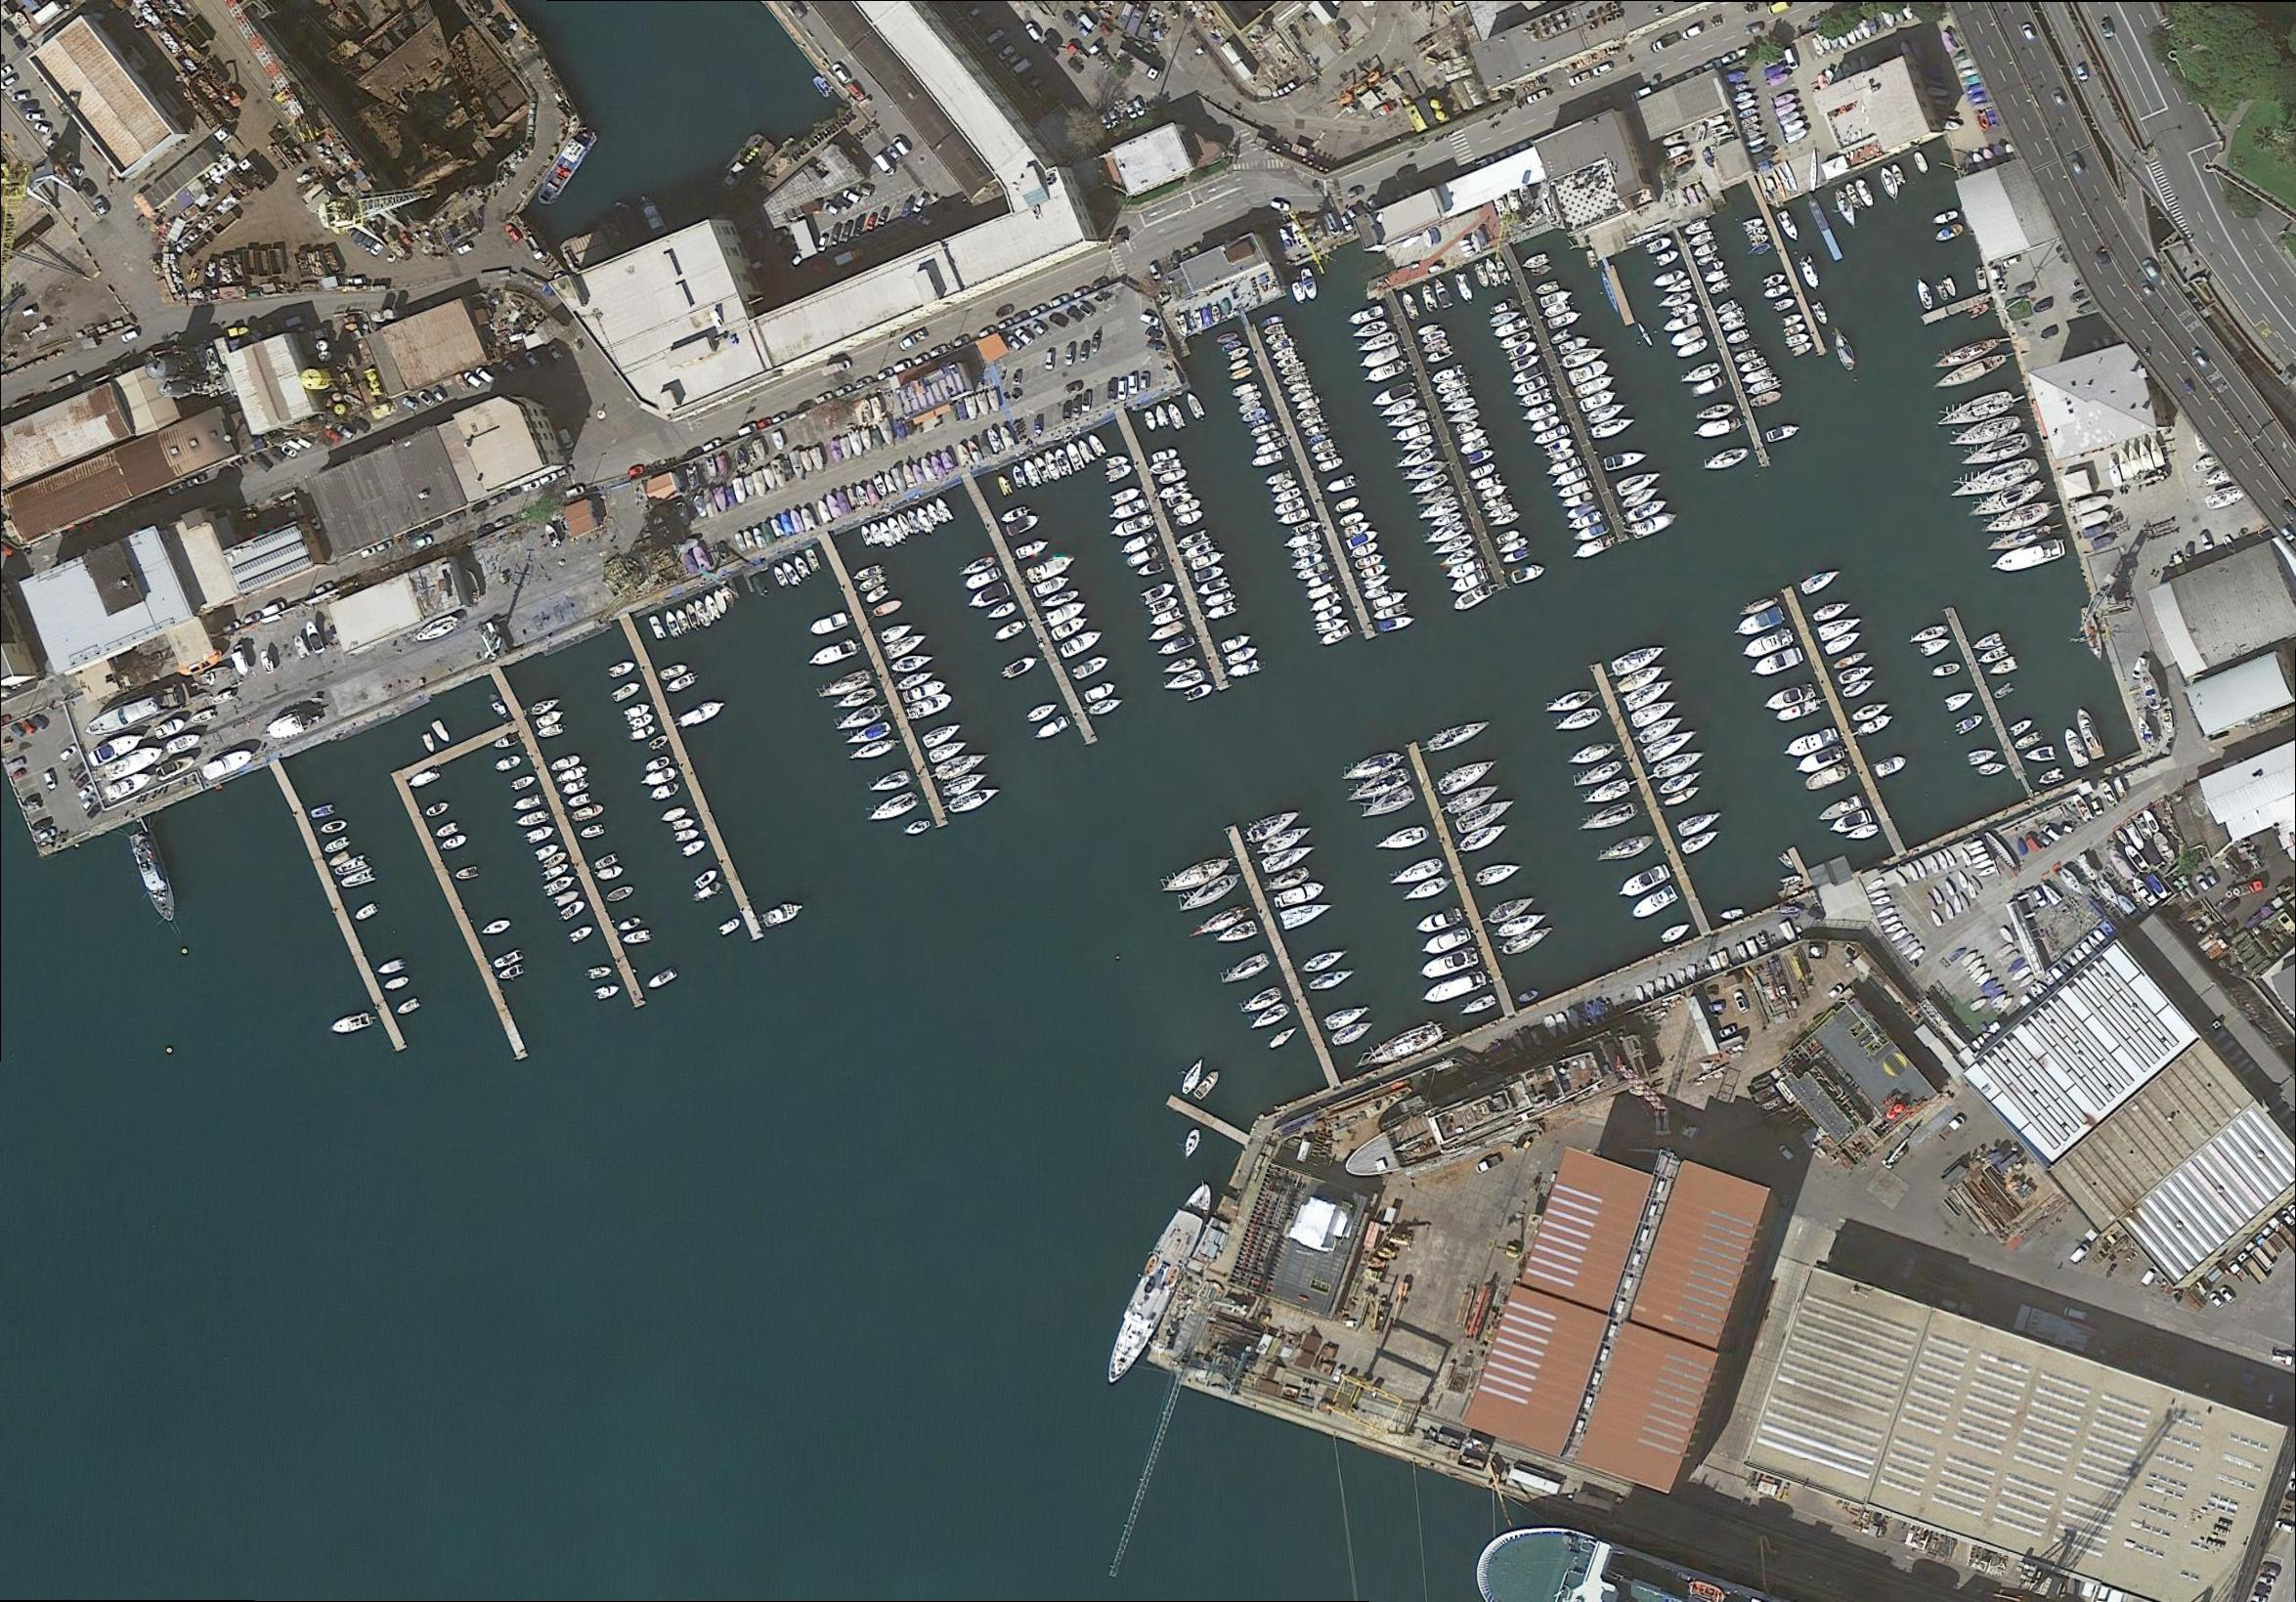harbor: (490, 668, 646, 1007), (619, 616, 764, 939), (1237, 314, 1378, 639), (267, 759, 407, 1051), (391, 771, 527, 1061), (813, 534, 946, 827), (1382, 290, 1511, 590), (1499, 248, 1628, 541), (961, 476, 1101, 745), (1774, 586, 1909, 855), (1586, 660, 1713, 939), (1401, 742, 1521, 1019), (1221, 827, 1343, 1092), (1115, 412, 1230, 688), (1670, 230, 1771, 466), (1937, 609, 2043, 803), (1746, 176, 1828, 354), (1165, 1094, 1247, 1148), (1921, 291, 1994, 326)
ship: (1319, 1017, 1673, 1199), (1083, 1167, 1230, 1401), (119, 815, 187, 935), (79, 679, 195, 742), (1350, 1012, 1452, 1078), (532, 124, 604, 213), (1944, 452, 2050, 510), (1930, 382, 2031, 438), (1961, 469, 2059, 527), (1928, 346, 2019, 398), (1954, 424, 2043, 476), (1158, 848, 1235, 904), (1926, 326, 2013, 375), (1978, 494, 2066, 543), (1985, 534, 2074, 581), (1446, 789, 1523, 843), (1945, 410, 2029, 457), (1982, 517, 2071, 560), (1417, 967, 1492, 1017), (1417, 712, 1493, 761), (1431, 752, 1506, 801), (1570, 794, 1645, 843), (1333, 743, 1408, 792), (1185, 899, 1256, 948), (1174, 869, 1244, 918), (96, 740, 171, 785), (1343, 764, 1415, 811), (263, 698, 331, 747), (1593, 825, 1661, 874), (930, 740, 1000, 787), (1240, 798, 1310, 845), (1640, 719, 1706, 768), (860, 784, 928, 831), (1356, 784, 1424, 831), (1439, 775, 1506, 822), (1488, 902, 1555, 948), (1616, 859, 1677, 907), (1249, 817, 1317, 860), (1736, 621, 1799, 668), (1649, 740, 1712, 787), (1275, 893, 1340, 939), (1467, 852, 1532, 897), (84, 728, 150, 771), (1214, 949, 1277, 995), (1605, 639, 1673, 681), (195, 743, 262, 785), (1417, 946, 1483, 988), (1481, 887, 1542, 932), (2071, 698, 2111, 766), (813, 665, 878, 707), (1373, 820, 1438, 862), (1455, 817, 1516, 860), (1497, 920, 1558, 963), (1619, 674, 1680, 717), (1788, 742, 1851, 784), (1628, 881, 1684, 928), (1539, 681, 1602, 722), (1324, 1012, 1382, 1058), (1727, 604, 1792, 644), (1385, 853, 1450, 893), (1302, 958, 1361, 1002), (1568, 756, 1628, 799), (1270, 874, 1331, 916), (1256, 838, 1317, 880), (1746, 646, 1807, 688), (946, 780, 1008, 820), (1561, 735, 1624, 775), (1021, 546, 1080, 588), (1624, 504, 1684, 546), (1293, 941, 1354, 981), (1548, 700, 1609, 740), (1394, 874, 1457, 913), (1577, 775, 1637, 815), (2074, 600, 2109, 668), (1759, 681, 1820, 719), (1406, 904, 1467, 942), (408, 607, 466, 647), (101, 766, 159, 806), (1317, 996, 1375, 1037), (1232, 982, 1289, 1023), (1633, 709, 1691, 749), (1626, 693, 1684, 733), (1781, 726, 1844, 763), (804, 637, 864, 675), (830, 700, 890, 738), (1797, 761, 1856, 799), (1415, 925, 1474, 963), (1614, 661, 1673, 700), (1263, 859, 1317, 900), (672, 695, 728, 735), (1673, 803, 1729, 843), (1813, 791, 1870, 829), (939, 766, 998, 803), (1814, 606, 1869, 646), (1586, 410, 1642, 448), (1609, 464, 1664, 503), (757, 893, 808, 935), (1654, 763, 1712, 799), (963, 576, 1015, 616), (1056, 625, 1110, 663), (1696, 442, 1755, 476), (1207, 918, 1263, 955), (1446, 579, 1499, 618), (1260, 1021, 1309, 1061), (904, 689, 960, 724), (841, 717, 897, 752), (848, 733, 904, 768), (1794, 564, 1844, 602), (914, 717, 967, 754), (1244, 1000, 1296, 1037), (1561, 354, 1616, 389), (1555, 340, 1609, 375), (864, 766, 918, 801), (923, 733, 974, 770), (2057, 722, 2094, 773), (1366, 377, 1418, 412), (899, 674, 951, 709), (2132, 660, 2167, 712), (1581, 396, 1635, 429), (1043, 595, 1092, 632), (881, 628, 930, 665), (1028, 709, 1076, 745), (1827, 181, 1862, 232), (1773, 696, 1828, 728), (1354, 340, 1406, 373), (1568, 370, 1621, 403), (1104, 511, 1157, 544), (1068, 649, 1115, 686), (1689, 412, 1746, 442), (1399, 452, 1448, 487), (326, 1007, 380, 1038), (829, 684, 883, 715), (1568, 531, 1619, 564), (1827, 808, 1877, 841), (1734, 590, 1785, 623), (1619, 494, 1670, 527), (1188, 1063, 1227, 1106), (1391, 443, 1443, 475), (154, 749, 201, 784), (1085, 689, 1132, 724), (890, 646, 937, 681), (953, 548, 1000, 583), (1677, 356, 1725, 389), (1429, 529, 1478, 562), (1848, 695, 1896, 728), (1828, 321, 1858, 375), (1359, 356, 1410, 387), (1422, 517, 1473, 548), (1158, 667, 1209, 698), (1446, 565, 1492, 600), (1174, 1054, 1209, 1099), (1453, 989, 1499, 1024), (1809, 593, 1855, 628), (1406, 468, 1453, 501), (1678, 825, 1725, 859), (1596, 264, 1624, 319), (1415, 494, 1464, 525), (1183, 546, 1232, 578), (1616, 483, 1664, 515), (893, 663, 942, 695), (996, 651, 1040, 686), (1122, 541, 1167, 574), (1001, 508, 1047, 541), (986, 613, 1031, 646), (1823, 628, 1869, 661), (1574, 386, 1621, 417), (1441, 551, 1488, 583), (637, 761, 684, 792), (1143, 618, 1190, 649), (960, 564, 1007, 595), (1598, 445, 1650, 473), (1019, 696, 1061, 731), (1870, 750, 1912, 785), (1049, 613, 1092, 646), (1830, 644, 1874, 677), (1343, 298, 1389, 330), (1347, 312, 1392, 344), (1117, 527, 1162, 558), (1661, 782, 1706, 813), (2104, 843, 2139, 883), (1377, 394, 1424, 424), (1438, 541, 1481, 572), (1155, 632, 1199, 663), (1012, 534, 1056, 565), (1106, 497, 1151, 527), (1029, 572, 1075, 602), (806, 611, 851, 640), (1905, 620, 1951, 649), (541, 867, 581, 900), (1080, 677, 1120, 710), (1949, 707, 1989, 740), (1352, 328, 1399, 356), (150, 712, 192, 743), (1036, 585, 1083, 613), (1855, 712, 1896, 743), (1518, 398, 1561, 428), (1670, 333, 1713, 363), (1687, 372, 1731, 401), (1551, 330, 1595, 359), (1197, 585, 1240, 614), (1841, 822, 1884, 852), (1413, 482, 1459, 510), (1389, 419, 1434, 447), (1158, 653, 1204, 681), (1303, 590, 1349, 618), (1214, 628, 1254, 660), (1174, 524, 1214, 555), (876, 616, 916, 647), (1657, 918, 1698, 949), (1647, 262, 1689, 291), (1534, 283, 1575, 312), (1530, 421, 1572, 450), (162, 728, 204, 757), (1136, 579, 1178, 609), (1221, 640, 1263, 670), (1317, 623, 1359, 653), (1492, 314, 1535, 342), (1664, 321, 1708, 349), (1385, 405, 1429, 433), (338, 864, 382, 892), (1145, 606, 1188, 633), (1225, 656, 1268, 684), (1296, 262, 1324, 305), (2132, 712, 2160, 756), (1300, 578, 1343, 606), (1940, 684, 1977, 717), (2120, 839, 2153, 876), (2071, 485, 2109, 517), (1691, 398, 1739, 422), (1548, 462, 1588, 492), (405, 763, 445, 792), (1841, 674, 1881, 703), (1514, 384, 1556, 412), (1542, 452, 1584, 480), (1652, 286, 1694, 314), (1659, 307, 1701, 335), (1542, 305, 1584, 333), (1563, 508, 1605, 536), (529, 705, 571, 733), (1762, 421, 1804, 448), (1295, 557, 1336, 585), (984, 595, 1021, 626), (1289, 548, 1333, 574), (1773, 204, 1802, 243), (687, 874, 726, 904), (1179, 679, 1218, 709), (1511, 372, 1551, 400), (1527, 410, 1567, 438), (1874, 161, 1902, 201), (333, 852, 373, 880), (1143, 593, 1183, 621), (1132, 558, 1172, 586), (1097, 462, 1138, 490), (1179, 539, 1220, 567), (897, 815, 937, 843), (1837, 660, 1877, 688), (194, 661, 234, 689), (1370, 585, 1410, 613), (1281, 529, 1326, 553), (2053, 864, 2087, 897), (1506, 361, 1548, 387), (1797, 250, 1823, 291), (555, 893, 590, 925), (302, 616, 328, 658), (1202, 599, 1244, 625), (1165, 496, 1207, 522), (994, 501, 1036, 527), (1251, 433, 1293, 459), (663, 668, 701, 696), (489, 946, 527, 974), (1106, 482, 1145, 510), (1343, 525, 1382, 553), (1192, 576, 1235, 600), (1453, 267, 1479, 307), (1500, 339, 1541, 365), (1486, 304, 1527, 330), (1506, 560, 1546, 586), (1570, 518, 1610, 544), (1148, 455, 1188, 482), (1188, 562, 1228, 588), (530, 836, 565, 866), (609, 675, 644, 705), (1429, 274, 1457, 311), (1647, 246, 1684, 274), (1425, 508, 1467, 532), (1397, 433, 1439, 457), (1931, 218, 1968, 246), (553, 761, 595, 785), (644, 963, 680, 991), (1851, 173, 1879, 209), (869, 595, 905, 623), (2010, 726, 2047, 754), (1429, 359, 1467, 386), (1563, 497, 1602, 524), (647, 778, 686, 804), (546, 749, 584, 775), (229, 640, 255, 679), (1157, 476, 1195, 503), (1340, 515, 1378, 541), (874, 412, 900, 450), (509, 804, 553, 827), (2129, 878, 2160, 909), (1555, 476, 1595, 501), (1912, 274, 1937, 314), (1439, 393, 1479, 417), (1434, 372, 1474, 396), (1275, 504, 1315, 529), (1640, 232, 1675, 260), (420, 796, 455, 824), (525, 693, 562, 719), (438, 829, 475, 855), (1162, 489, 1199, 515), (1985, 654, 2022, 681), (1963, 743, 1999, 770), (1267, 475, 1303, 501), (1289, 391, 1326, 417), (1443, 405, 1485, 428), (1377, 613, 1418, 635), (1373, 599, 1415, 621), (1481, 291, 1520, 316), (1560, 487, 1598, 511), (850, 560, 888, 585), (1916, 635, 1954, 660), (1179, 1124, 1204, 1162), (1748, 387, 1787, 412), (1272, 494, 1310, 518), (691, 593, 715, 632), (1322, 471, 1361, 496), (1302, 567, 1340, 592), (2142, 871, 2174, 900), (677, 834, 712, 860), (619, 696, 654, 722), (539, 857, 574, 883), (1183, 387, 1209, 422), (1841, 178, 1867, 213), (487, 688, 513, 722), (862, 583, 897, 609), (1263, 464, 1298, 490), (644, 609, 670, 644), (1312, 614, 1352, 637), (1309, 602, 1349, 625), (1288, 541, 1328, 564), (1506, 351, 1542, 375), (1539, 435, 1575, 459), (1478, 490, 1514, 515), (1516, 248, 1553, 272), (522, 820, 558, 845), (1064, 438, 1089, 475), (1164, 396, 1188, 433), (623, 709, 659, 733), (1171, 508, 1207, 532), (1970, 630, 2006, 654), (2074, 506, 2111, 531), (912, 501, 937, 537), (565, 918, 597, 946), (1743, 375, 1785, 396), (567, 801, 605, 824), (476, 916, 515, 939), (661, 606, 684, 644), (591, 977, 625, 1003), (431, 817, 464, 843), (429, 714, 455, 747), (2003, 712, 2036, 738), (1687, 225, 1720, 251), (1422, 342, 1457, 366), (1417, 279, 1441, 314), (1464, 459, 1499, 483), (1488, 506, 1523, 531), (1659, 274, 1694, 298), (1021, 457, 1045, 492), (604, 881, 639, 906), (495, 962, 530, 986), (886, 511, 911, 546), (1282, 373, 1317, 398), (1331, 492, 1366, 517), (953, 438, 977, 473), (1239, 403, 1274, 428), (691, 541, 715, 576), (1249, 448, 1289, 469), (1399, 286, 1422, 323), (1497, 328, 1534, 351), (509, 791, 546, 813), (534, 719, 571, 742), (1741, 365, 1778, 387), (1270, 485, 1307, 508), (1286, 384, 1322, 407), (1296, 410, 1333, 433), (1361, 571, 1397, 593), (1288, 517, 1324, 539), (728, 469, 750, 506), (691, 864, 719, 893), (2074, 853, 2102, 883), (551, 885, 583, 911), (2122, 820, 2148, 852), (1478, 480, 1511, 504), (1471, 469, 1504, 494), (1459, 433, 1492, 457), (2034, 763, 2067, 787), (1977, 640, 2010, 665), (2071, 792, 2095, 825), (1085, 428, 1110, 461), (1705, 274, 1738, 298), (1720, 314, 1753, 339), (932, 494, 956, 527), (1336, 506, 1370, 531), (1228, 377, 1261, 401), (1471, 257, 1493, 291), (1462, 445, 1497, 468), (1528, 274, 1563, 297), (490, 729, 525, 752), (558, 777, 593, 799), (640, 752, 675, 775), (375, 955, 410, 977), (1042, 448, 1064, 483), (1155, 468, 1190, 490), (1052, 443, 1075, 478), (1300, 419, 1335, 442), (1305, 435, 1340, 457), (768, 455, 790, 490), (2095, 880, 2123, 907), (351, 899, 380, 925), (1544, 445, 1581, 466), (492, 750, 523, 775), (590, 848, 621, 873), (623, 721, 659, 742), (290, 632, 314, 663), (321, 832, 352, 857), (2097, 780, 2122, 811), (1717, 304, 1748, 328), (1736, 354, 1773, 375), (780, 557, 804, 588), (1350, 539, 1382, 564), (867, 469, 892, 501), (984, 426, 1008, 457), (1481, 255, 1504, 288), (1483, 501, 1516, 524), (658, 803, 691, 825), (256, 646, 279, 679), (857, 572, 890, 595), (1031, 454, 1054, 487), (2122, 440, 2144, 473), (701, 590, 724, 623), (1293, 403, 1326, 426), (998, 419, 1021, 452), (1237, 394, 1270, 417), (797, 501, 820, 534), (832, 485, 855, 518), (687, 490, 710, 524), (785, 448, 808, 482), (1495, 534, 1530, 555), (1499, 544, 1534, 565), (656, 660, 691, 681), (1930, 660, 1965, 681), (878, 517, 899, 551), (1364, 581, 1399, 602), (1359, 562, 1394, 583), (1354, 551, 1389, 572), (951, 393, 972, 428), (1247, 419, 1282, 440), (1251, 426, 1286, 447), (823, 489, 844, 524), (541, 848, 571, 873), (393, 993, 422, 1017), (1940, 272, 1965, 302), (605, 656, 637, 679), (1909, 145, 1931, 176), (614, 911, 646, 934), (2135, 438, 2158, 469), (1692, 239, 1724, 262), (1732, 346, 1764, 368), (923, 497, 946, 529), (1288, 276, 1310, 307), (790, 551, 813, 583), (769, 562, 792, 593), (1076, 435, 1099, 466), (888, 462, 911, 494), (860, 476, 883, 508), (963, 435, 986, 466), (1228, 363, 1260, 386), (679, 550, 701, 581), (757, 518, 780, 550), (1418, 335, 1452, 356), (1455, 424, 1488, 445), (1441, 384, 1474, 405), (1928, 206, 1961, 227), (666, 811, 700, 832), (318, 815, 351, 836), (1148, 445, 1181, 466), (682, 599, 703, 632), (1310, 445, 1343, 466), (928, 448, 949, 482), (918, 454, 939, 487), (984, 380, 1005, 414), (974, 386, 994, 419), (787, 506, 808, 539), (1235, 387, 1268, 408), (700, 485, 721, 518), (710, 482, 731, 515), (717, 913, 743, 939), (808, 75, 834, 101), (1413, 316, 1443, 339), (1809, 298, 1832, 328), (541, 522, 564, 551), (1694, 248, 1724, 270), (1270, 344, 1300, 366), (801, 546, 823, 576), (680, 461, 703, 490), (867, 424, 890, 454), (1225, 354, 1254, 377), (670, 497, 693, 527), (963, 389, 982, 424), (846, 424, 865, 459), (508, 771, 539, 792), (595, 860, 626, 881), (1101, 450, 1132, 471), (1724, 326, 1755, 347), (1760, 281, 1792, 302), (897, 508, 918, 539), (673, 606, 694, 637), (1277, 359, 1309, 380), (1281, 366, 1312, 387), (975, 429, 996, 461), (776, 510, 797, 541), (808, 442, 829, 473), (2113, 892, 2137, 918), (2116, 448, 2135, 482), (1254, 311, 1288, 330), (326, 846, 354, 869), (1713, 295, 1741, 318), (1492, 527, 1521, 548), (672, 824, 701, 845), (994, 469, 1015, 499), (1139, 405, 1160, 435), (577, 820, 607, 841), (188, 705, 218, 726), (1888, 157, 1909, 187), (307, 799, 337, 820), (382, 972, 412, 993), (1267, 335, 1296, 356), (1760, 269, 1790, 290), (1315, 454, 1345, 475), (843, 482, 864, 511), (1213, 326, 1242, 347), (836, 431, 857, 461), (729, 527, 750, 557), (1973, 759, 2008, 777), (565, 791, 597, 810), (1010, 461, 1029, 492), (452, 864, 483, 883), (2026, 743, 2057, 763), (712, 585, 731, 616), (714, 448, 733, 480), (858, 424, 878, 455), (748, 522, 768, 553), (750, 466, 769, 497), (761, 461, 780, 492), (799, 445, 818, 476), (2139, 810, 2163, 834), (419, 728, 440, 756), (1684, 216, 1712, 237), (1701, 265, 1729, 286), (1738, 215, 1766, 236), (1788, 340, 1816, 361), (857, 524, 878, 551), (1275, 351, 1303, 372), (748, 435, 769, 462), (621, 928, 654, 946), (2148, 435, 2165, 468), (1417, 326, 1446, 346), (209, 688, 239, 707), (905, 506, 925, 536), (701, 452, 721, 482), (815, 496, 834, 525), (827, 436, 846, 466), (646, 731, 672, 752), (583, 962, 614, 979), (2132, 817, 2153, 843), (1225, 342, 1251, 363), (2104, 459, 2123, 487), (1453, 417, 1481, 436), (1771, 295, 1799, 314), (1971, 264, 1991, 291), (1783, 332, 1811, 351), (721, 581, 740, 609), (867, 520, 886, 548), (731, 445, 750, 473), (853, 480, 872, 508), (911, 459, 930, 487), (939, 445, 958, 473), (1780, 321, 1809, 339), (900, 461, 918, 490), (1780, 311, 1806, 330), (769, 426, 789, 452), (1265, 328, 1293, 346), (1745, 232, 1773, 250), (881, 468, 899, 496), (2111, 777, 2130, 801), (1220, 337, 1244, 356), (768, 517, 787, 541), (1260, 321, 1289, 337), (741, 469, 757, 499), (1153, 403, 1171, 429), (740, 525, 757, 551), (2221, 534, 2240, 557), (1743, 223, 1767, 241), (2162, 710, 2177, 736), (1935, 279, 1951, 304)
